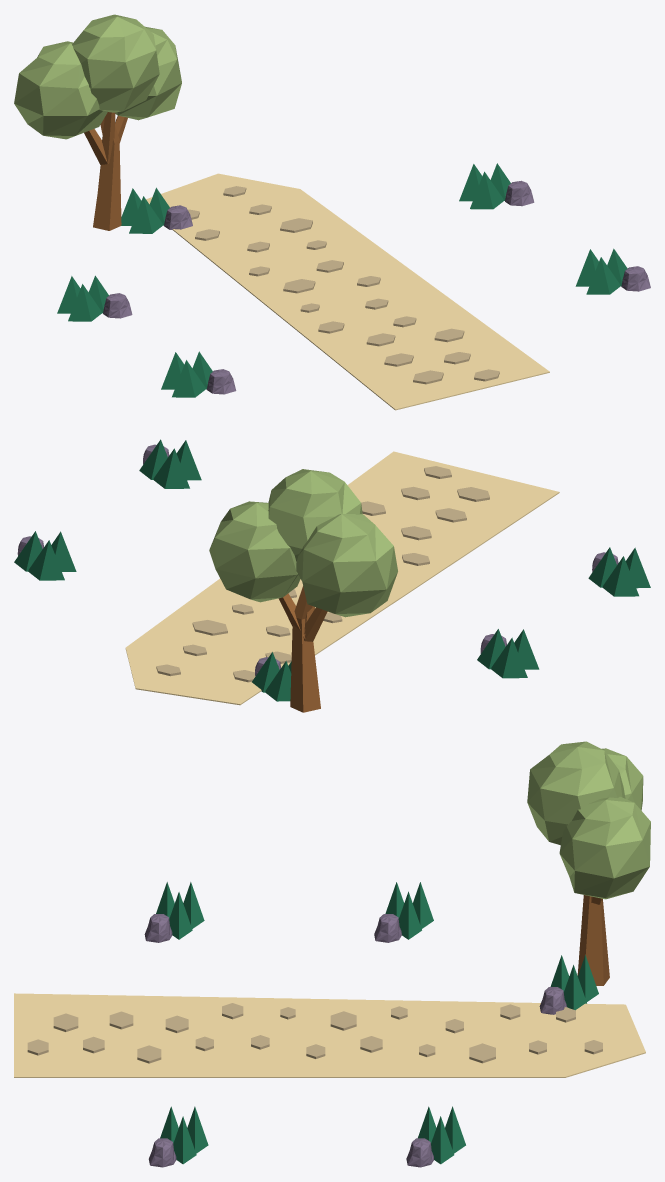
The model's file is decoration.glb.
3 renders of one model, top to bottom at view 1: azimuth 30°, elevation 25°; view 2: azimuth 150°, elevation 25°; view 3: azimuth 270°, elevation 25°, orthographic. The views are drawn at different scales.
Parts seen in each view (by area): view 1: 13_R2B_Town_PaperPavedLane, 13_R2B_Town_TreeHedgesAndRocks; view 2: 13_R2B_Town_TreeHedgesAndRocks, 13_R2B_Town_PaperPavedLane; view 3: 13_R2B_Town_PaperPavedLane, 13_R2B_Town_TreeHedgesAndRocks.
Part boxes in pixels (x1,y1,x2,y2): 13_R2B_Town_PaperPavedLane: (146,173,549,410); 13_R2B_Town_TreeHedgesAndRocks: (14,14,650,397); 13_R2B_Town_TreeHedgesAndRocks: (14,439,650,712); 13_R2B_Town_PaperPavedLane: (125,451,559,705); 13_R2B_Town_PaperPavedLane: (14,993,645,1077); 13_R2B_Town_TreeHedgesAndRocks: (144,741,650,1167).
Bounding box in the file's own units: 1.42 × 0.6076 × 1.49.
